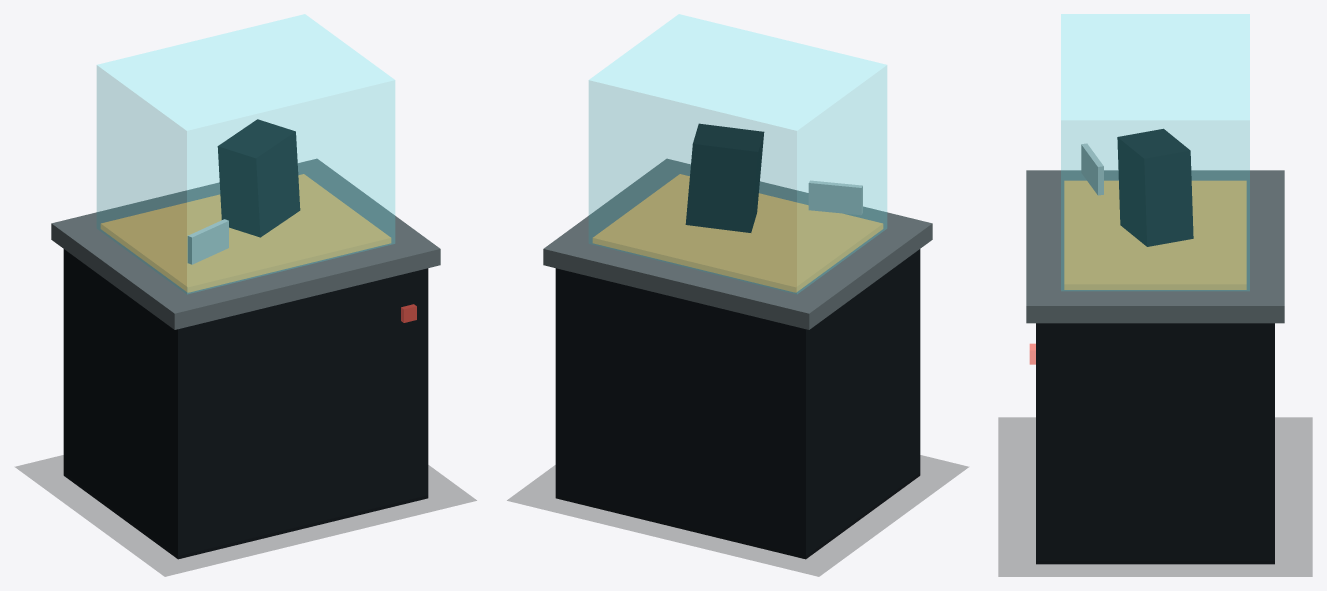
Rendered from hp_room_cyber_evidence_vitrine.glb.
3 views of the same model, side by side, from view 1: azimuth 30°, elevation 25°; view 2: azimuth 150°, elevation 25°; view 3: azimuth 270°, elevation 25° (orthographic). The views are drawn at different scales.
Parts seen in each view (by area): view 1: plinth, glass_case, plinth_trim, case_base_glow, contact_shadow, exhibit_core, evidence_tag; view 2: plinth, glass_case, plinth_trim, case_base_glow, contact_shadow, exhibit_core, evidence_tag; view 3: plinth, glass_case, plinth_trim, contact_shadow, case_base_glow, exhibit_core, evidence_tag.
Boxes of the visible parts, x1,y1,x2,y2 form: plinth: (63,249,428,559); glass_case: (97,14,394,293); plinth_trim: (51,158,440,329); case_base_glow: (100,174,391,292); contact_shadow: (15,455,476,576); exhibit_core: (217,119,300,237); evidence_tag: (187,219,228,264); plinth: (555,249,920,559); glass_case: (589,14,886,293); plinth_trim: (543,158,932,329); case_base_glow: (592,174,883,292); contact_shadow: (507,455,968,576); exhibit_core: (685,123,764,232); evidence_tag: (808,180,862,215); plinth: (1036,323,1274,564); glass_case: (1061,14,1249,290); plinth_trim: (1026,170,1284,323); contact_shadow: (998,417,1312,576); case_base_glow: (1064,180,1246,289); exhibit_core: (1117,128,1193,246); evidence_tag: (1081,143,1103,195).
Size of the model in its own units: 1.2 by 1.52 by 1.
